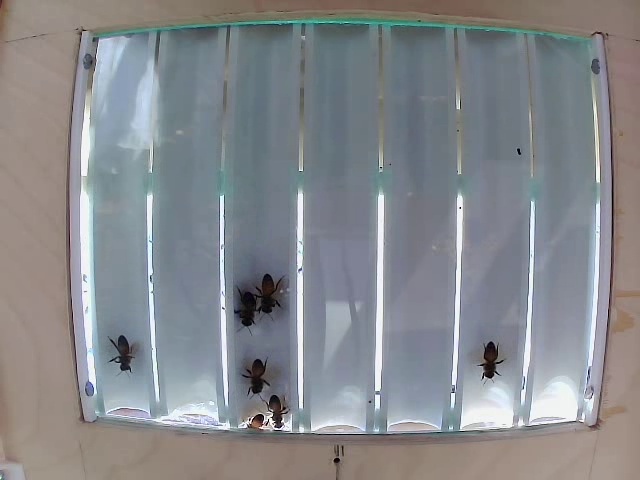bee: (230, 348, 276, 393), (252, 276, 287, 328), (96, 325, 133, 372), (265, 394, 301, 433), (235, 287, 255, 330), (479, 346, 502, 374)
